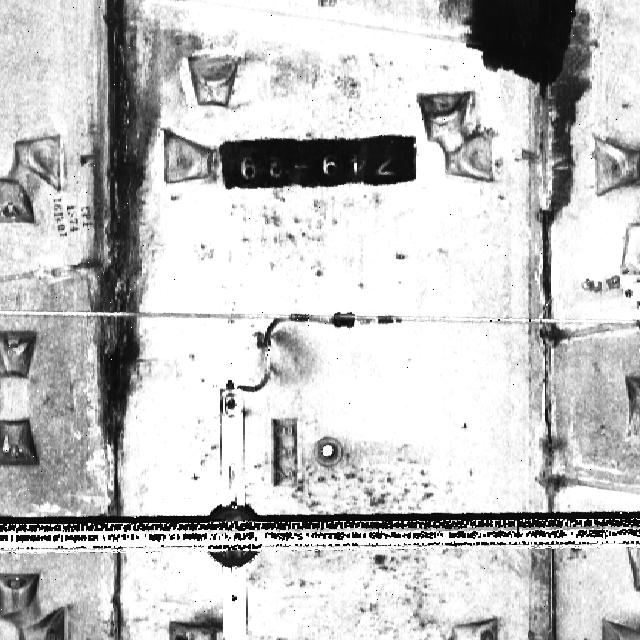leakage: (74, 1, 171, 471), (463, 1, 599, 319)
